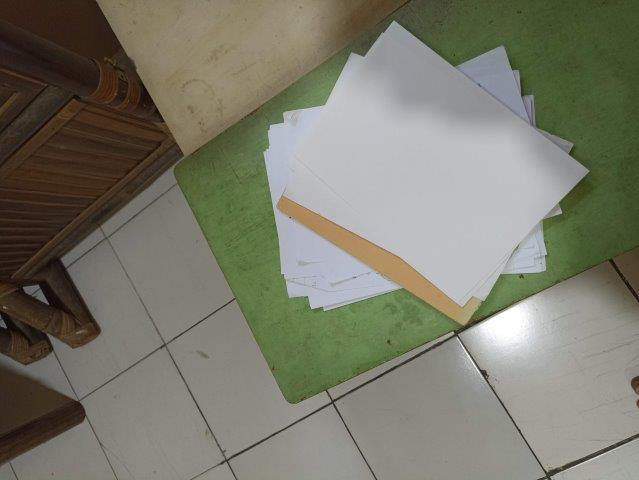kertas: (264, 21, 590, 325)
